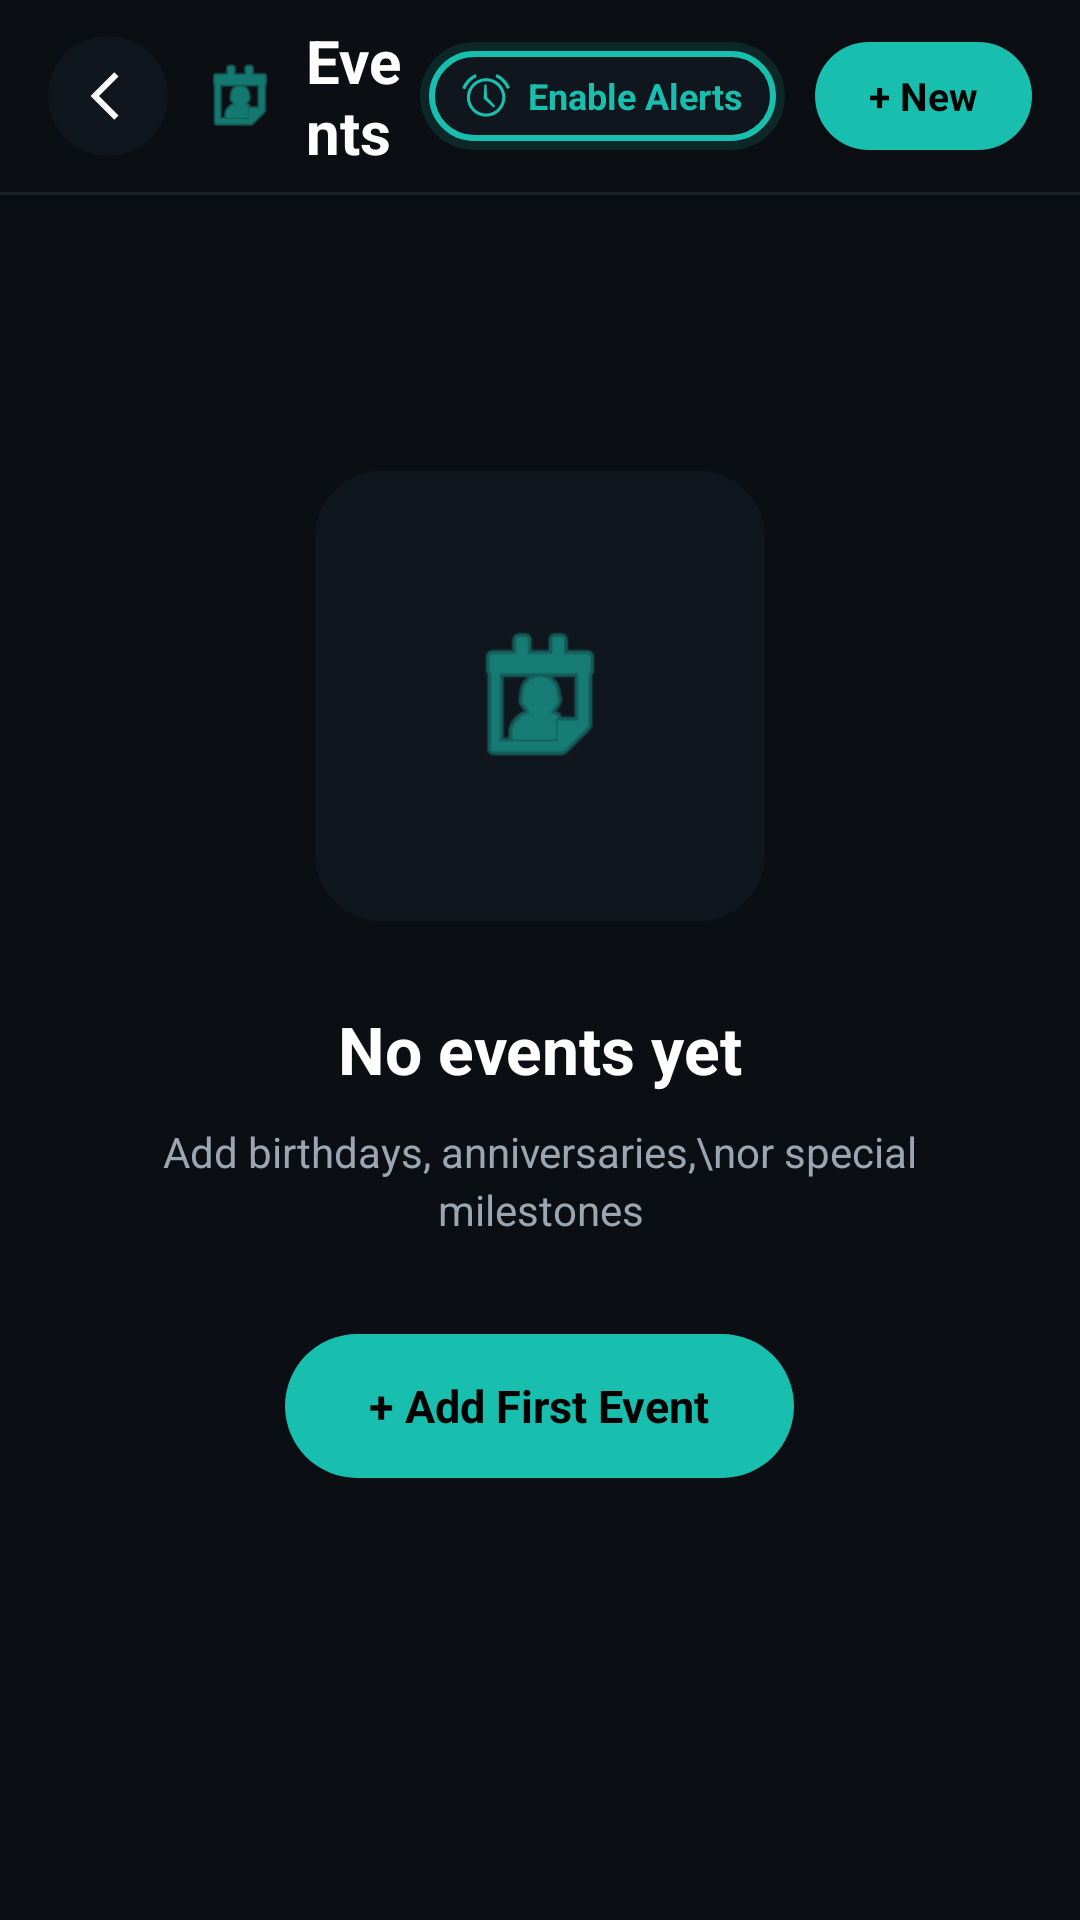

Named icons in this screenshot (1080x1920) and their bounding boxes, (x1=x1, y1=y1, x2=x2, y2=y2):
Back: (x1=48, y1=36, x2=168, y2=156)
calendar: (x1=213, y1=64, x2=267, y2=126), (x1=486, y1=633, x2=594, y2=756)
